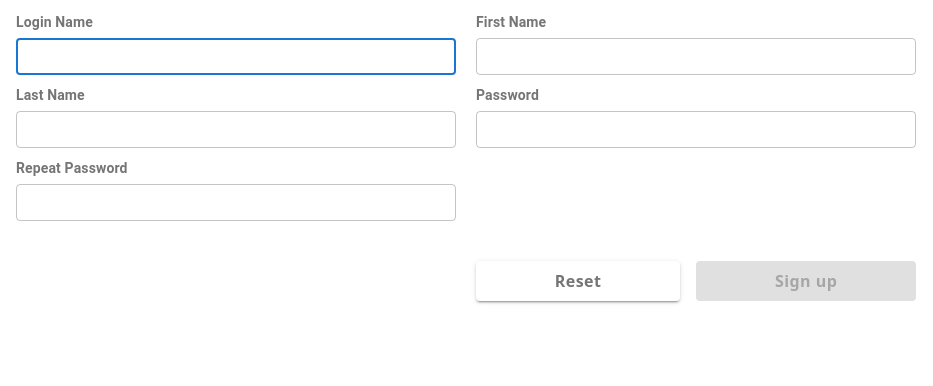
coupon list component › email error messages
The width and height of the screenshot is (933, 386).
Type "qwe" into the field labelled "Login Name" at (236, 57), box [16,38,456,75]
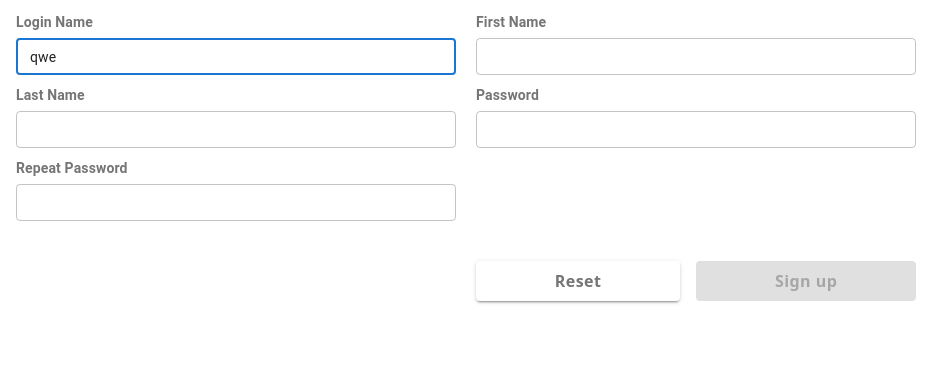
Submit the form from the button "Sign up", box [696,261,916,301]
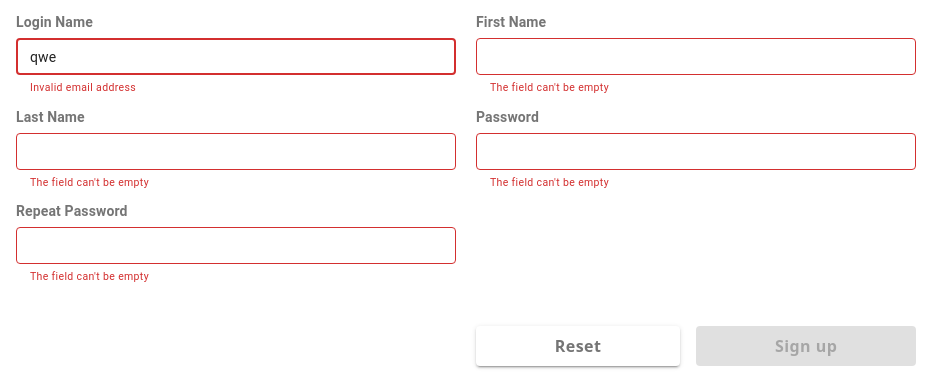
Check: the text "Invalid email address" is shown, box [30,81,136,94]
Type "qwe@rtt" into the field labelled "Login Name" at (236, 57), box [16,38,456,75]
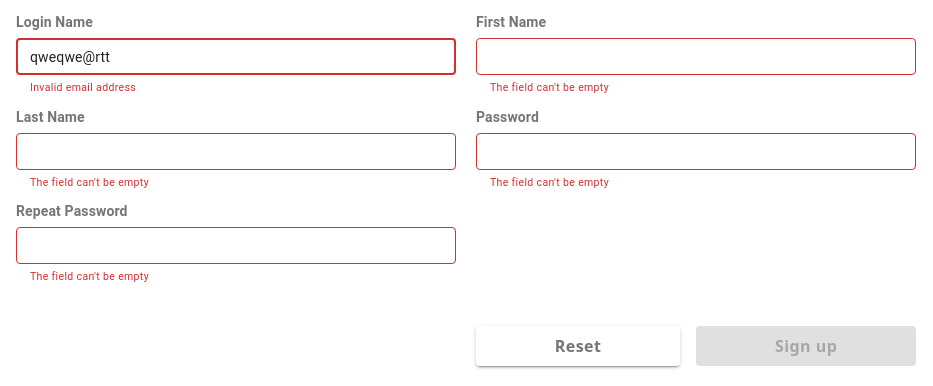
Check: the text "Invalid email address" is shown, box [30,81,136,94]
Replace the text in the field labelled "Login Name" with "qwadsfasdfsadfasdfadfsadfae@rtt.ru" at (236, 57), box [16,38,456,75]
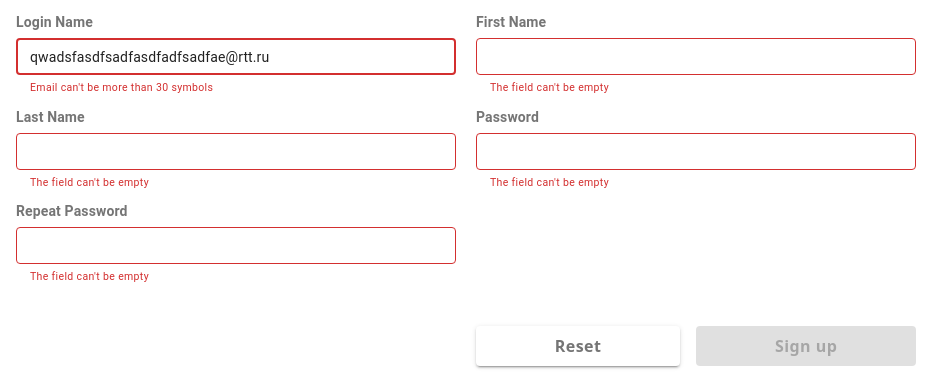
Check: the text "Email can't be more than 30 symbols" is shown, box [30,81,213,94]
